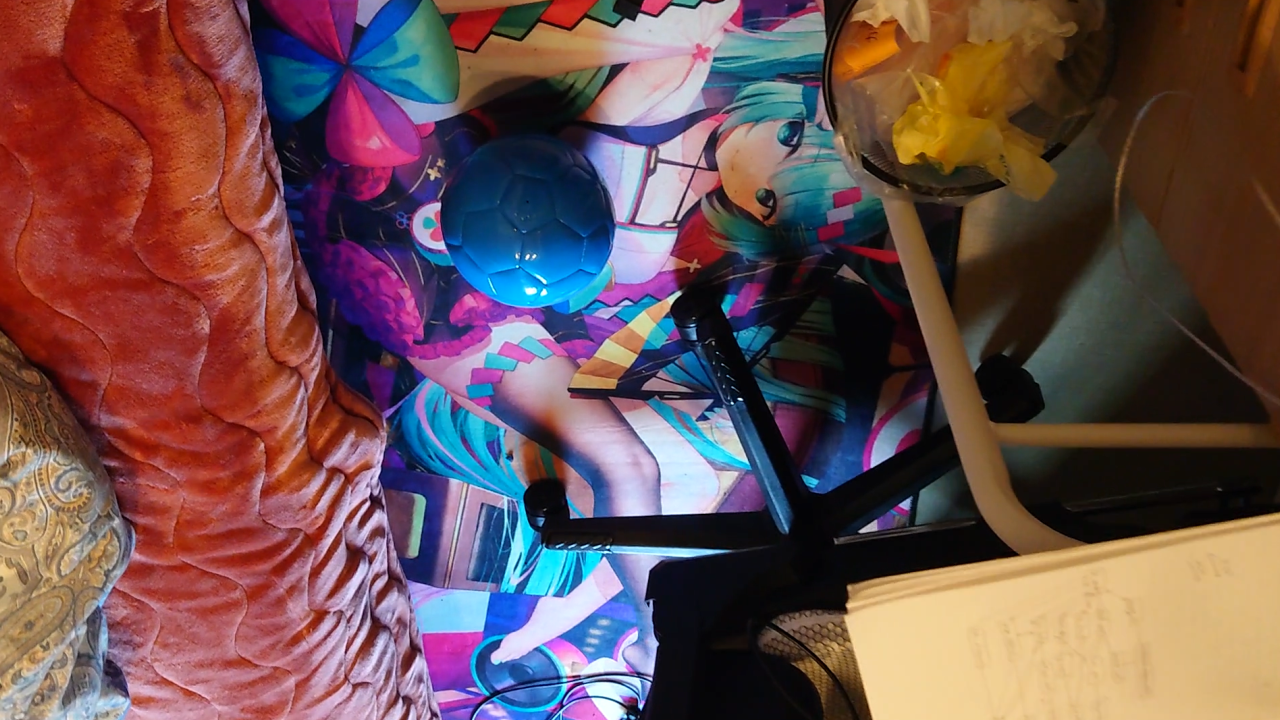blue: (434, 134, 619, 307)
